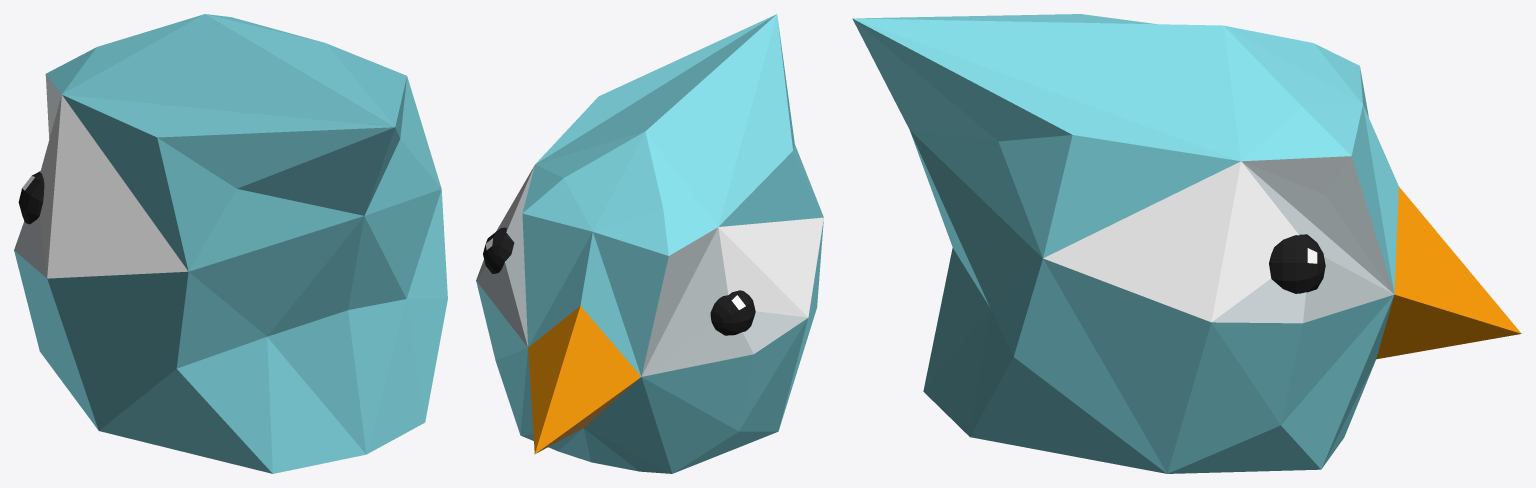
File: scene_DO8YG6MUjY.glb
The picture shows the model from 3 angles, left to right: view 1: azimuth 30°, elevation 25°; view 2: azimuth 150°, elevation 25°; view 3: azimuth 270°, elevation 25°; orthographic projection. The views are drawn at different scales.
Visible parts, largest first — view 1: group1032019519, group412310454; view 2: group1032019519, group412310454, group115933670; view 3: group1032019519, group115933670.
Part boxes in pixels (x1,y1,x2,y2): group1032019519: (14,14,447,473); group412310454: (18,171,44,224); group1032019519: (476,14,823,473); group412310454: (710,290,755,335); group115933670: (483,227,514,273); group1032019519: (852,14,1521,473); group115933670: (1269,234,1325,293).
Bounding box in the file's own units: 0.3154 × 0.3113 × 0.462.
